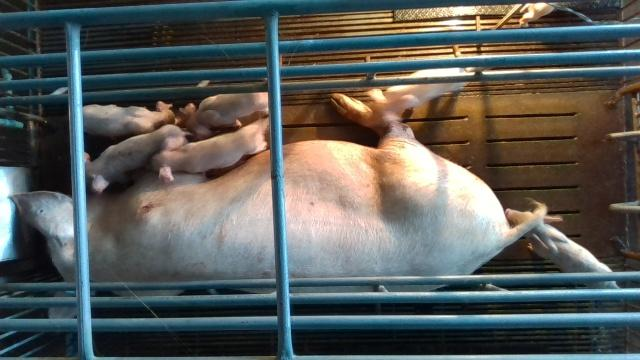piglet: (504, 208, 619, 289), (84, 124, 194, 192), (145, 124, 267, 181), (372, 68, 471, 112), (178, 92, 269, 136), (82, 100, 176, 138)
sow-sleep: (8, 93, 547, 319)
